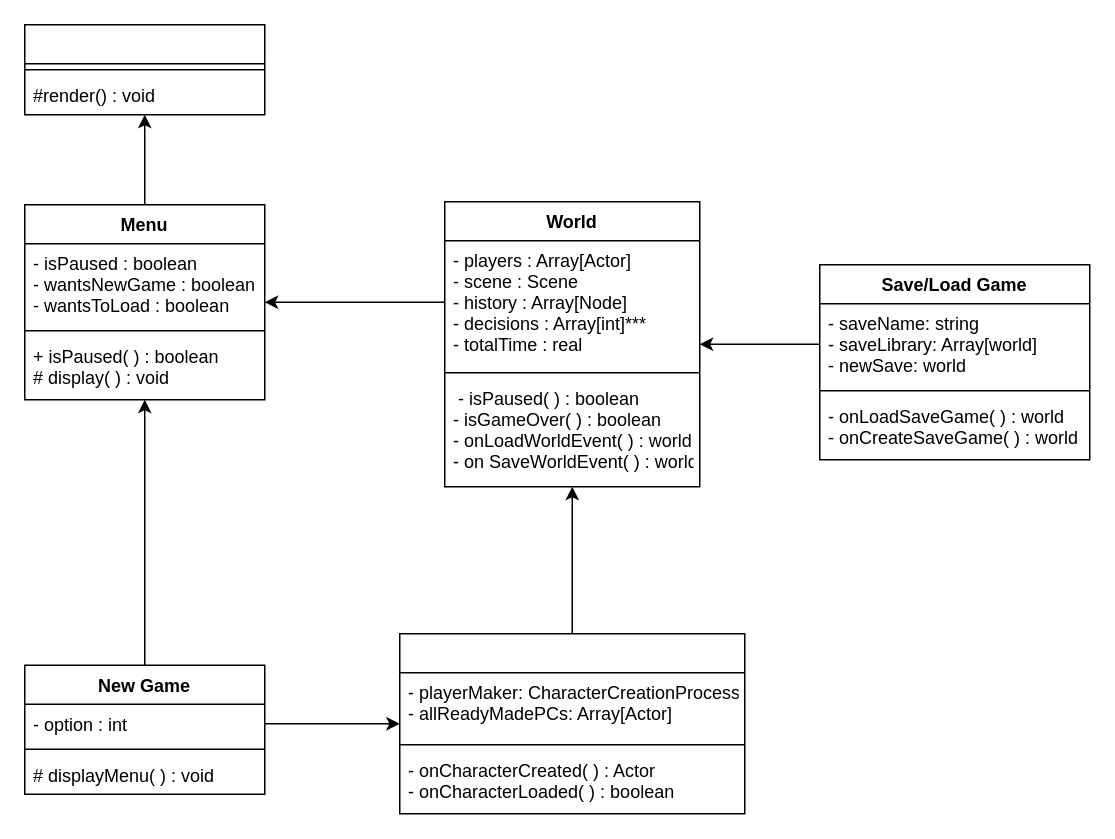
Some shapes in this 1115 by 839 pixel diagram are drawn without their labels. Here are the shapes that lost their labels. From the top down, the box of each, then its label:
(23, 23, 265, 115): Screen
(398, 632, 745, 814): Character Selection/Generation
